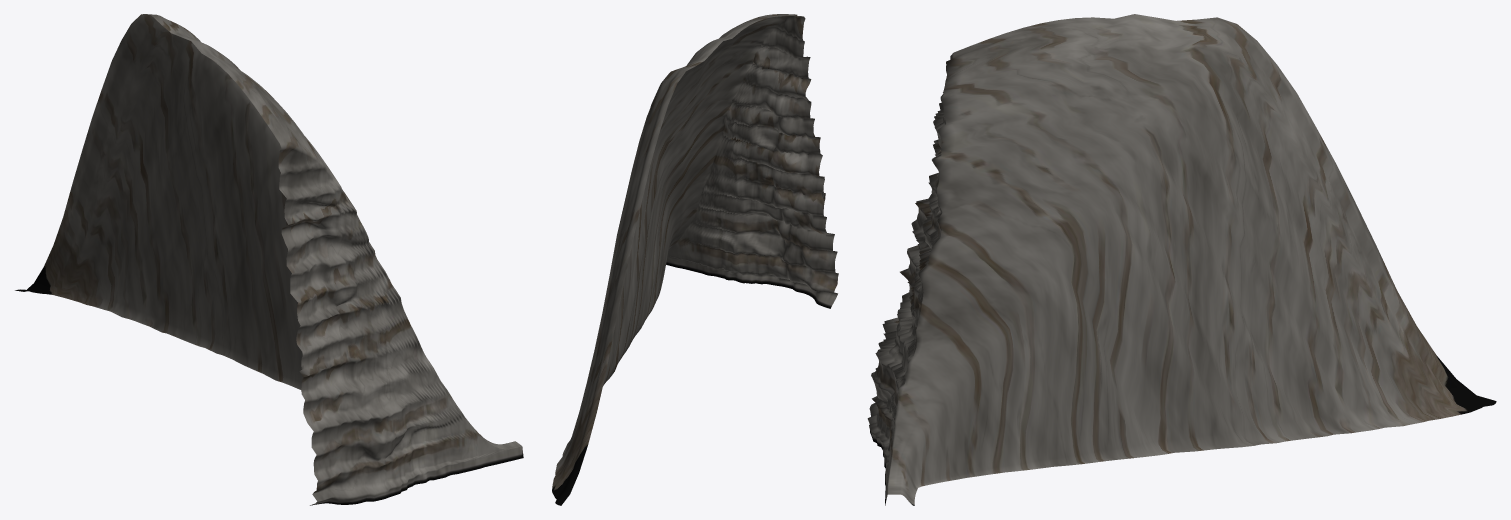
The model's file is SM_cliff_end.fbx.
The picture shows the model from 3 angles, left to right: view 1: azimuth 30°, elevation 25°; view 2: azimuth 150°, elevation 25°; view 3: azimuth 270°, elevation 25°; orthographic projection. The views are drawn at different scales.
Visible parts, largest first — view 1: SM_cliff_end; view 2: SM_cliff_end; view 3: SM_cliff_end.
Part boxes in pixels (box(x1,y1,x2,y2)): SM_cliff_end: box(15, 14, 523, 505); SM_cliff_end: box(552, 14, 838, 505); SM_cliff_end: box(867, 14, 1496, 505).
Bounding box in the file's own units: 16 × 27.54 × 40.56.
